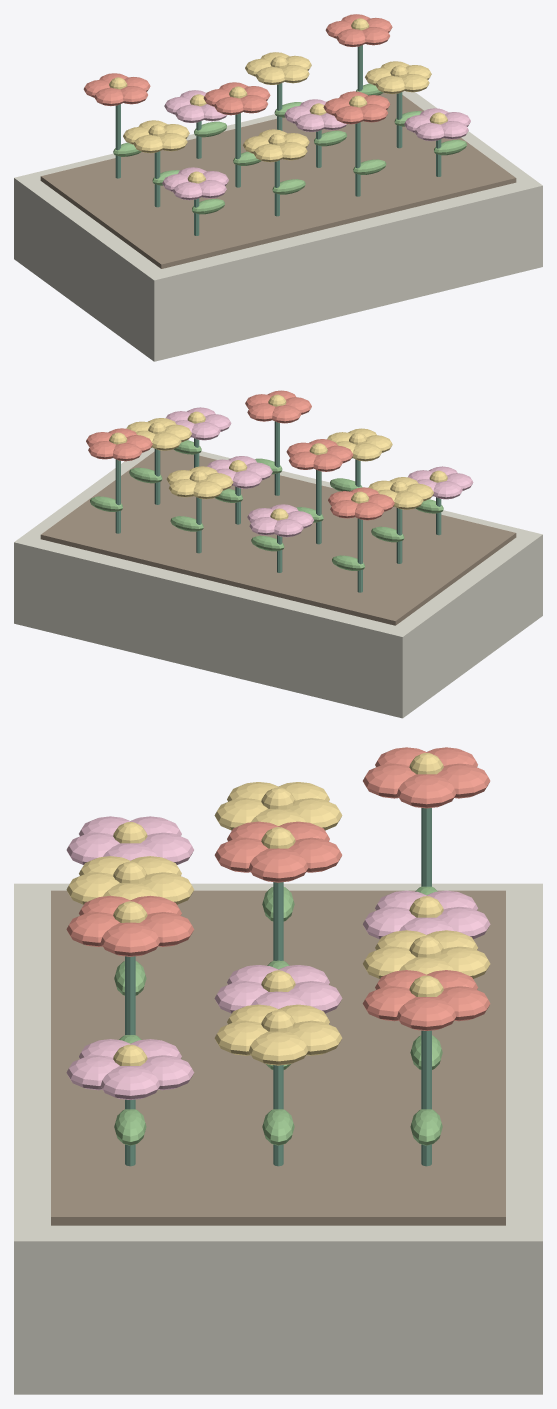
File: remaster_decor_flowers.glb
The picture shows the model from 3 angles, top to bottom: view 1: azimuth 30°, elevation 25°; view 2: azimuth 150°, elevation 25°; view 3: azimuth 270°, elevation 25°; orthographic projection. The views are drawn at different scales.
Parts seen in each view (by area): view 1: Raised planter.001, Rich planting soil.001, Petal.073, Petal.118, Petal.068, Petal.088, Petal.103, Petal.098, Petal.063, Petal.078, Petal.083, Petal.113 (+2 smaller); view 2: Raised planter.001, Rich planting soil.001, Petal.087, Petal.112, Petal.072, Petal.092, Petal.062, Petal.097, Petal.107, Petal.077, Petal.117, Petal.067 (+12 smaller); view 3: Raised planter.001, Rich planting soil.001, Petal.095, Petal.070, Petal.085, Petal.100, Petal.075, Petal.115, Petal.086, Petal.089, Petal.104, Petal.096 (+27 smaller).
Part boxes in pixels (<box>): Raised planter.001: <box>14,91,542,361</box>; Rich planting soil.001: <box>40,93,516,268</box>; Petal.073: <box>334,105,363,124</box>; Petal.118: <box>336,28,365,46</box>; Petal.068: <box>253,143,282,162</box>; Petal.088: <box>214,96,243,115</box>; Petal.103: <box>94,87,123,106</box>; Petal.098: <box>375,75,404,94</box>; Petal.063: <box>173,181,201,200</box>; Petal.078: <box>415,122,443,141</box>; Petal.083: <box>133,134,162,153</box>; Petal.113: <box>255,66,284,84</box>; Raised planter.001: <box>14,447,542,718</box>; Rich planting soil.001: <box>40,449,516,625</box>; Petal.087: <box>313,453,342,471</box>; Petal.112: <box>193,480,222,499</box>; Petal.072: <box>272,405,301,423</box>; Petal.092: <box>233,470,261,488</box>; Petal.062: <box>433,481,462,499</box>; Petal.097: <box>152,432,181,450</box>; Petal.107: <box>274,518,303,537</box>; Petal.077: <box>191,422,220,440</box>; Petal.117: <box>113,442,141,461</box>; Petal.067: <box>352,443,381,461</box>; Raised planter.001: <box>14,883,542,1394</box>; Rich planting soil.001: <box>51,890,505,1225</box>; Petal.095: <box>249,1031,307,1065</box>; Petal.070: <box>100,922,159,956</box>; Petal.085: <box>249,848,307,882</box>; Petal.100: <box>397,774,455,808</box>; Petal.075: <box>100,1066,159,1099</box>; Petal.115: <box>397,997,456,1030</box>; Petal.086: <box>289,837,342,872</box>; Petal.089: <box>214,837,267,872</box>; Petal.104: <box>363,763,415,798</box>; Petal.096: <box>289,1020,342,1055</box>.
Size of the model in its own units: 4 by 1.83 by 2.5.
